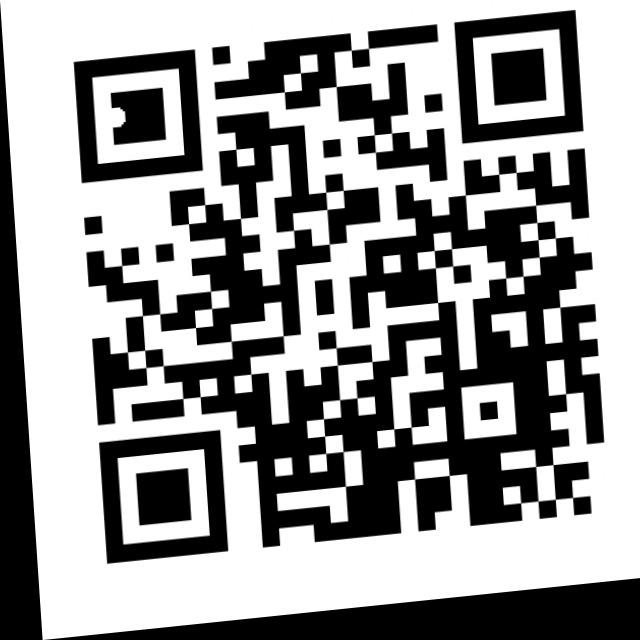QR_CODE: (51, 6, 622, 588)
